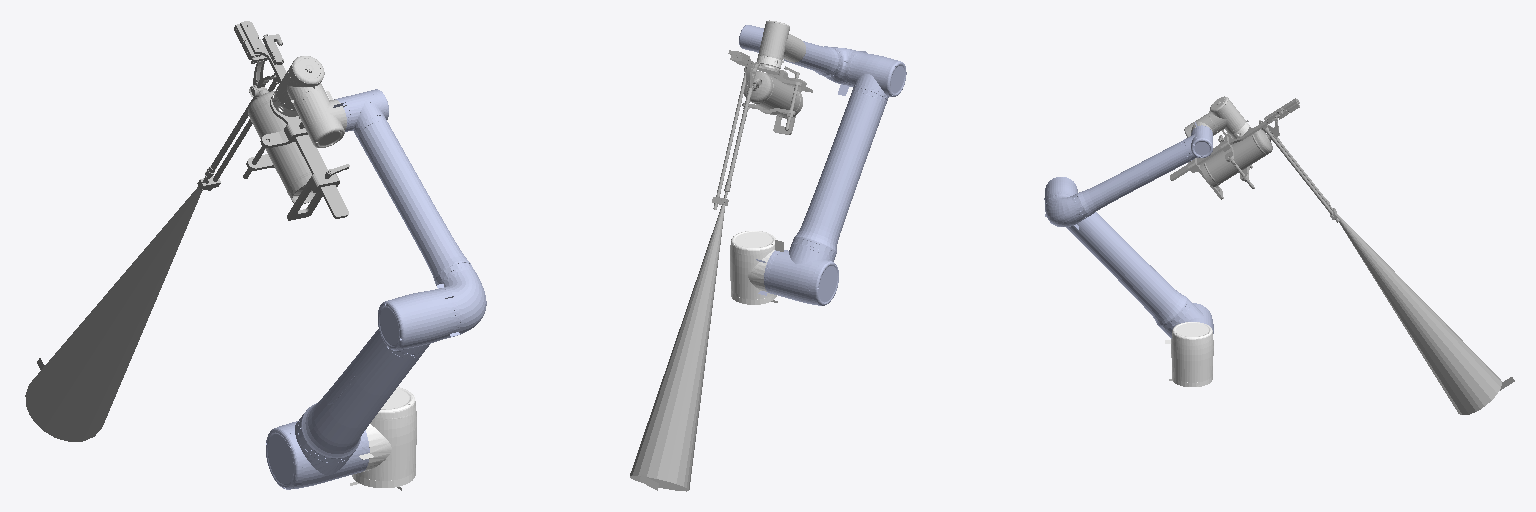
URDF robot description (robot):
<?xml version="1.0" encoding="utf-8"?>
<!-- This URDF was automatically created by SolidWorks to URDF Exporter! Originally created by Stephen Brawner (brawner@gmail.com) 
     Commit Version: 1.6.0-4-g7f85cfe  Build Version: 1.6.7995.38578
     For more information, please see http://wiki.ros.org/sw_urdf_exporter -->
<robot
  name="robot">
  <!-- <link
    name="world">
    <visual>
      <origin
        xyz="0 0 0"
        rpy="0 0 0" />
      <geometry>
        <mesh
          filename="package://robot/meshes/world.STL" />
      </geometry>
      <material
        name="">
        <color
          rgba="1 1 1 1" />
      </material>
    </visual>
  </link> -->
  <link
    name="mobile_base_link">
    <inertial>
      <origin
        xyz="-0.037677 -0.036872 0.47922"
        rpy="0 0 0" />
      <mass
        value="46.535" />
      <inertia
        ixx="1.1041"
        ixy="0.020898"
        ixz="0.0045054"
        iyy="2.0971"
        iyz="0.018166"
        izz="3.0114" />
    </inertial>
    <visual>
      <origin
        xyz="0 0 0"
        rpy="0 0 0" />
      <geometry>
        <mesh
          filename="package://robot/meshes/mobile_base_link.STL" />
      </geometry>
      <material
        name="">
        <color
          rgba="0.89804 0.9098 0.92157 1" />
      </material>
    </visual>
    <collision>
      <origin
        xyz="0 0 0"
        rpy="0 0 0" />
      <geometry>
        <mesh
          filename="package://robot/meshes/mobile_base_link.STL" />
      </geometry>
    </collision>
  </link>
  <!-- <joint
    name="world_to_mobile_base"
    type="planar">
    <origin
      xyz="-1.1 -1.6325 0"
      rpy="0 0 0" />
    <parent
      link="world" />
    <child
      link="mobile_base_link" />
    <axis
      xyz="0 0 -1" />
  </joint> -->
  <link
    name="base_link">
    <inertial>
      <origin
        xyz="0.0056164 1.1382E-06 -0.0066183"
        rpy="0 0 0" />
      <mass
        value="7.5341" />
      <inertia
        ixx="0.053715"
        ixy="-3.3282E-09"
        ixz="-0.00019606"
        iyy="0.055309"
        iyz="-1.3666E-07"
        izz="0.037383" />
    </inertial>
    <visual>
      <origin
        xyz="0 0 0"
        rpy="0 0 0" />
      <geometry>
        <mesh
          filename="package://robot/meshes/base_link.STL" />
      </geometry>
      <material
        name="">
        <color
          rgba="1 1 1 1" />
      </material>
    </visual>
    <collision>
      <origin
        xyz="0 0 0"
        rpy="0 0 0" />
      <geometry>
        <mesh
          filename="package://robot/meshes/base_link.STL" />
      </geometry>
    </collision>
  </link>
  <joint
    name="base_joint"
    type="revolute">
    <origin
      xyz="0 0 0.976"
      rpy="0 0 3.1416" />
    <parent
      link="mobile_base_link" />
    <child
      link="base_link" />
    <axis
      xyz="0 0 -1" />
    <limit
      lower="-3"
      upper="3"
      effort="200"
      velocity="5" />
  </joint>
  <link
    name="shoulder_link">
    <inertial>
      <origin
        xyz="0.3763 2.558E-07 -0.0025158"
        rpy="0 0 0" />
      <mass
        value="24.858" />
      <inertia
        ixx="0.11231"
        ixy="9.3808E-07"
        ixz="-0.00016089"
        iyy="0.70231"
        iyz="-2.744E-07"
        izz="0.67863" />
    </inertial>
    <visual>
      <origin
        xyz="0 0 0"
        rpy="0 0 0" />
      <geometry>
        <mesh
          filename="package://robot/meshes/shoulder_link.STL" />
      </geometry>
      <material
        name="">
        <color
          rgba="0.79216 0.81961 0.92941 1" />
      </material>
    </visual>
    <collision>
      <origin
        xyz="0 0 0"
        rpy="0 0 0" />
      <geometry>
        <mesh
          filename="package://robot/meshes/shoulder_link.STL" />
      </geometry>
    </collision>
  </link>
  <joint
    name="shoulder_joint"
    type="revolute">
    <origin
      xyz="0.2325 0 0"
      rpy="1.5708 -0.83762 1.5708" />
    <parent
      link="base_link" />
    <child
      link="shoulder_link" />
    <axis
      xyz="0 0 -1" />
    <limit
      lower="-3"
      upper="3"
      effort="200"
      velocity="5" />
  </joint>
  <link
    name="elbow_link">
    <inertial>
      <origin
        xyz="0.34365 -2.884E-07 0.17658"
        rpy="0 0 0" />
      <mass
        value="8.3474" />
      <inertia
        ixx="0.015364"
        ixy="-1.8973E-06"
        ixz="-0.011879"
        iyy="0.3532"
        iyz="2.8619E-08"
        izz="0.35128" />
    </inertial>
    <visual>
      <origin
        xyz="0 0 0"
        rpy="0 0 0" />
      <geometry>
        <mesh
          filename="package://robot/meshes/elbow_link.STL" />
      </geometry>
      <material
        name="">
        <color
          rgba="0.79216 0.81961 0.92941 1" />
      </material>
    </visual>
    <collision>
      <origin
        xyz="0 0 0"
        rpy="0 0 0" />
      <geometry>
        <mesh
          filename="package://robot/meshes/elbow_link.STL" />
      </geometry>
    </collision>
  </link>
  <joint
    name="elbow_joint"
    type="revolute">
    <origin
      xyz="0.897 0 0"
      rpy="3.1416 0 1.7797" />
    <parent
      link="shoulder_link" />
    <child
      link="elbow_link" />
    <axis
      xyz="0 0 -1" />
    <limit
      lower="-3"
      upper="3"
      effort="200"
      velocity="5" />
  </joint>
  <link
    name="wrist1_link">
    <inertial>
      <origin
        xyz="0.0057268 5.1206E-08 -0.0052352"
        rpy="0 0 0" />
      <mass
        value="1.2892" />
      <inertia
        ixx="0.0019091"
        ixy="2.5141E-09"
        ixz="-3.8648E-05"
        iyy="0.0031175"
        iyz="-2.1994E-09"
        izz="0.0029354" />
    </inertial>
    <visual>
      <origin
        xyz="0 0 0"
        rpy="0 0 0" />
      <geometry>
        <mesh
          filename="package://robot/meshes/wrist1_link.STL" />
      </geometry>
      <material
        name="">
        <color
          rgba="0.84706 0.84706 0.84706 1" />
      </material>
    </visual>
    <collision>
      <origin
        xyz="0 0 0"
        rpy="0 0 0" />
      <geometry>
        <mesh
          filename="package://robot/meshes/wrist1_link.STL" />
      </geometry>
    </collision>
  </link>
  <joint
    name="wrist1_joint"
    type="revolute">
    <origin
      xyz="0.7445 0 0.04415"
      rpy="3.1416 0 0.077834" />
    <parent
      link="elbow_link" />
    <child
      link="wrist1_link" />
    <axis
      xyz="0 0 -1" />
    <limit
      lower="-3"
      upper="3"
      effort="200"
      velocity="5" />
  </joint>
  <link
    name="wrist2_link">
    <inertial>
      <origin
        xyz="0.003572 3.5218E-08 -0.0051183"
        rpy="0 0 0" />
      <mass
        value="1.33" />
      <inertia
        ixx="0.0019534"
        ixy="9.9328E-10"
        ixz="-2.4313E-05"
        iyy="0.003343"
        iyz="-2.4563E-09"
        izz="0.0031635" />
    </inertial>
    <visual>
      <origin
        xyz="0 0 0"
        rpy="0 0 0" />
      <geometry>
        <mesh
          filename="package://robot/meshes/wrist2_link.STL" />
      </geometry>
      <material
        name="">
        <color
          rgba="0.84706 0.84706 0.84706 1" />
      </material>
    </visual>
    <collision>
      <origin
        xyz="0 0 0"
        rpy="0 0 0" />
      <geometry>
        <mesh
          filename="package://robot/meshes/wrist2_link.STL" />
      </geometry>
    </collision>
  </link>
  <joint
    name="wrist2_joint"
    type="revolute">
    <origin
      xyz="0.1385 0 0"
      rpy="1.5708 -0.068651 1.5708" />
    <parent
      link="wrist1_link" />
    <child
      link="wrist2_link" />
    <axis
      xyz="0 0 -1" />
    <limit
      lower="-3"
      upper="3"
      effort="200"
      velocity="5" />
  </joint>
  <link
    name="wrist3_link">
    <inertial>
      <origin
        xyz="-1.2077E-05 0.00015216 -0.024169"
        rpy="0 0 0" />
      <mass
        value="0.27866" />
      <inertia
        ixx="0.0001968"
        ixy="1.8785E-07"
        ixz="1.2469E-07"
        iyy="0.00020246"
        iyz="5.5556E-08"
        izz="0.00033557" />
    </inertial>
    <visual>
      <origin
        xyz="0 0 0"
        rpy="0 0 0" />
      <geometry>
        <mesh
          filename="package://robot/meshes/wrist3_link.STL" />
      </geometry>
      <material
        name="">
        <color
          rgba="1 1 1 1" />
      </material>
    </visual>
    <collision>
      <origin
        xyz="0 0 0"
        rpy="0 0 0" />
      <geometry>
        <mesh
          filename="package://robot/meshes/wrist3_link.STL" />
      </geometry>
    </collision>
  </link>
  <joint
    name="wrist3_joint"
    type="revolute">
    <origin
      xyz="0.1205 0 0"
      rpy="-1.5708 -1.5698 -1.5708" />
    <parent
      link="wrist2_link" />
    <child
      link="wrist3_link" />
    <axis
      xyz="0 0 -1" />
    <limit
      lower="-3"
      upper="3"
      effort="200"
      velocity="5" />
  </joint>
  <link
    name="tool">
    <inertial>
      <origin
        xyz="-0.011686 0.02856 -0.4093"
        rpy="0 0 0" />
      <mass
        value="21.891" />
      <inertia
        ixx="1.3402"
        ixy="-0.00034012"
        ixz="-0.00011066"
        iyy="1.347"
        iyz="0.084975"
        izz="0.11717" />
    </inertial>
    <visual>
      <origin
        xyz="0 0 0"
        rpy="0 0 0" />
      <geometry>
        <mesh
          filename="package://robot/meshes/tool.STL" />
      </geometry>
      <material
        name="">
        <color
          rgba="0.75294 0.75294 0.75294 1" />
      </material>
    </visual>
    <collision>
      <origin
        xyz="0 0 0"
        rpy="0 0 0" />
      <geometry>
        <mesh
          filename="package://robot/meshes/tool.STL" />
      </geometry>
    </collision>
  </link>
  <joint
    name="tool_joint"
    type="fixed">
    <origin
      xyz="0.11154 0 1.7638"
      rpy="-0.068651 0 0" />
    <parent
      link="wrist3_link" />
    <child
      link="tool" />
    <axis
      xyz="0 0 0" />
  </joint>
</robot>

--- What the picture shows (computed from the rendered views, not written in the file) ---
3 views of the same robot in one strip: view 1: azimuth 30°, elevation 25°; view 2: azimuth 150°, elevation 25°; view 3: azimuth 270°, elevation 25° (orthographic).
Robot: robot — 8 links, 7 joints (6 revolute, 1 fixed); root link mobile_base_link; default pose: all joints at 0.
Links seen in each view (by area): view 1: tool, shoulder_link, elbow_link, base_link, wrist1_link, wrist2_link; view 2: tool, shoulder_link, base_link, elbow_link, wrist2_link; view 3: tool, shoulder_link, elbow_link, base_link, wrist2_link.
Boxes of the visible links, x1,y1,x2,y2 form: tool: (25, 21, 349, 441); shoulder_link: (266, 284, 460, 489); elbow_link: (333, 89, 486, 336); base_link: (350, 387, 416, 490); wrist1_link: (291, 86, 346, 147); wrist2_link: (273, 56, 324, 118); tool: (630, 50, 812, 491); shoulder_link: (756, 52, 906, 305); base_link: (730, 231, 783, 304); elbow_link: (739, 25, 866, 86); wrist2_link: (758, 20, 791, 62); tool: (1170, 98, 1514, 414); shoulder_link: (1044, 177, 1213, 338); elbow_link: (1045, 122, 1212, 226); base_link: (1165, 322, 1213, 386); wrist2_link: (1210, 96, 1248, 136).
Size in the robot's own frame: 0.5395 by 2.16 by 1.64 metres.
7 mesh visuals loaded from 8 distinct referenced files (7 binary STL); not drawn: 1 (reference not matched to a file when rendering).
